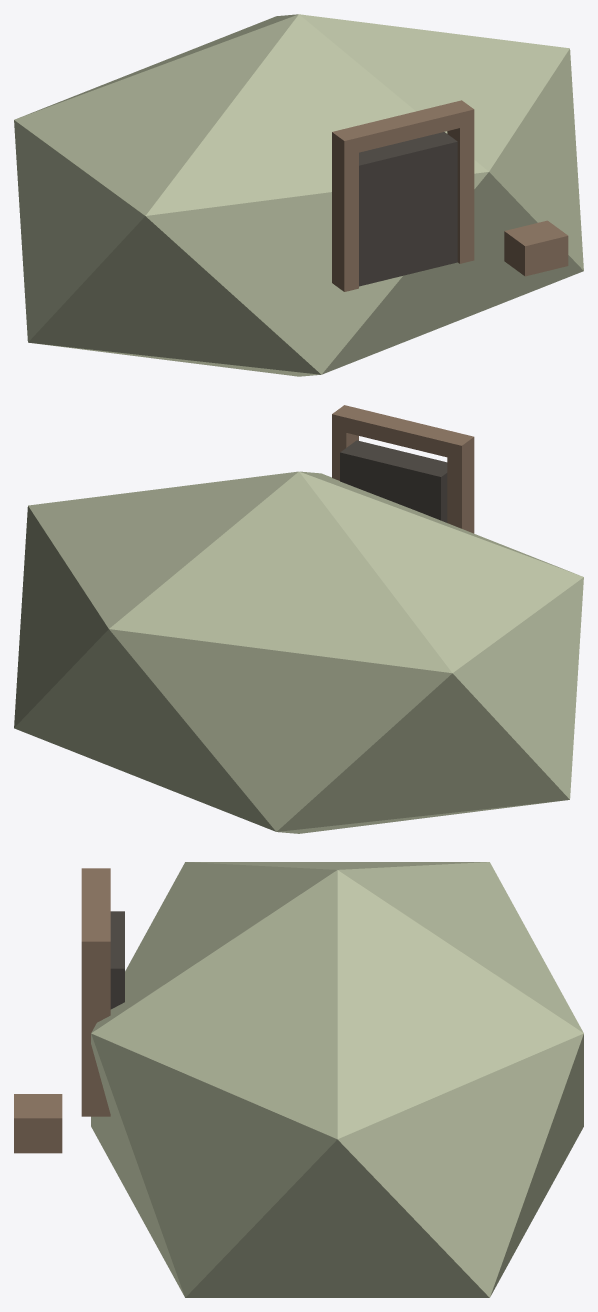
File: ginger_cave.glb
3 renders of one model, top to bottom at view 1: azimuth 30°, elevation 25°; view 2: azimuth 150°, elevation 25°; view 3: azimuth 270°, elevation 25°, orthographic. The views are drawn at different scales.
Visible parts, largest first — view 1: ginger_cave; view 2: ginger_cave; view 3: ginger_cave.
Boxes of the visible parts, <box> form: ginger_cave: <box>14,14,583,376</box>; ginger_cave: <box>14,405,583,833</box>; ginger_cave: <box>14,862,583,1297</box>.
Size of the model in its own units: 7.51 by 4.8 by 5.9.
